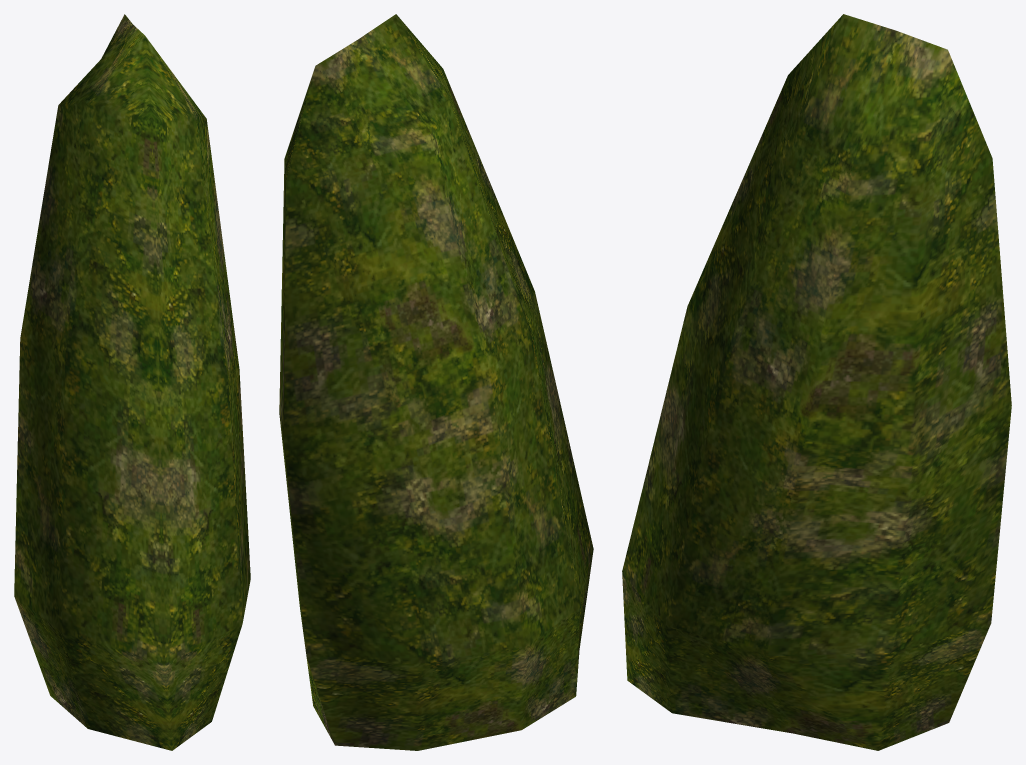
Rendered from OVERHILL_A_01_BOX19.fbx.
The picture shows the model from 3 angles, left to right: view 1: azimuth 30°, elevation 25°; view 2: azimuth 150°, elevation 25°; view 3: azimuth 270°, elevation 25°; orthographic projection. The views are drawn at different scales.
Visible parts, largest first — view 1: OVERHILL_A_01_BOX19; view 2: OVERHILL_A_01_BOX19; view 3: OVERHILL_A_01_BOX19.
Boxes of the visible parts, x1,y1,x2,y2 form: OVERHILL_A_01_BOX19: (14,14,250,750); OVERHILL_A_01_BOX19: (279,14,593,750); OVERHILL_A_01_BOX19: (622,14,1011,750).
Size of the model in its own units: 16649 by 49566 by 24851.
Materials: 1 (1 with a texture image).
